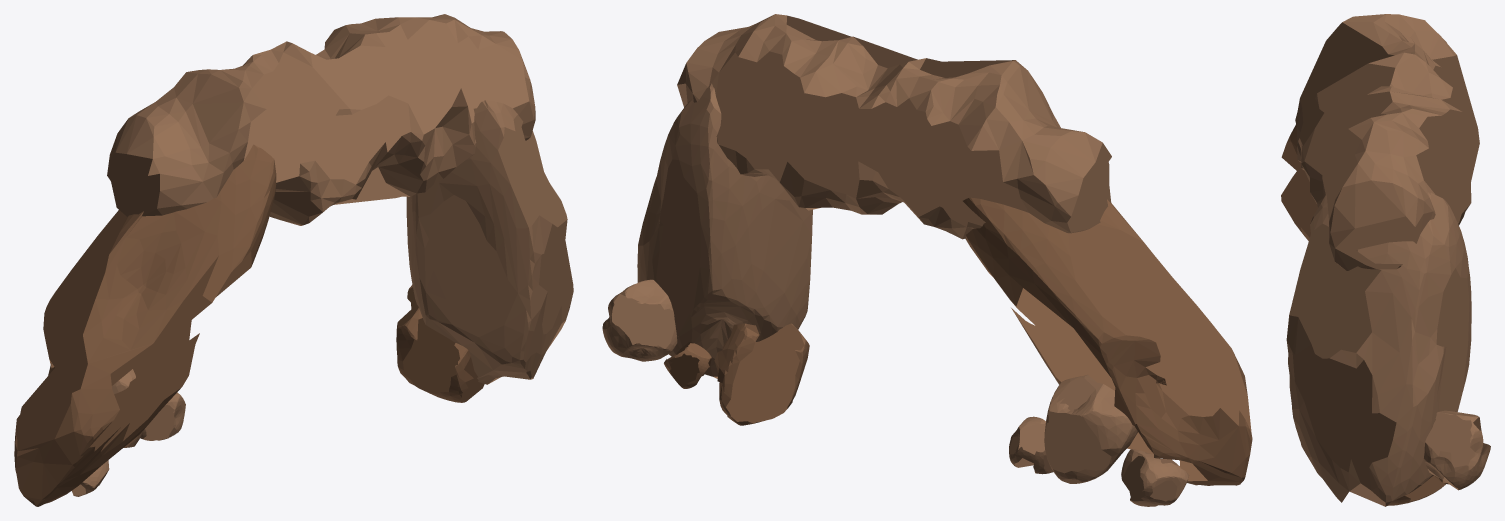
File: STEN .fbx
The picture shows the model from 3 angles, left to right: view 1: azimuth 30°, elevation 25°; view 2: azimuth 150°, elevation 25°; view 3: azimuth 270°, elevation 25°; orthographic projection. The views are drawn at different scales.
Visible parts, largest first — view 1: Cube.002, Cube.004, Cube.003, Cube, Cube.008; view 2: Cube.002, Cube.004, Cube.003, Cube, Cube.006, Cube.001, Cube.005, Cube.008, Cube.007; view 3: Cube.003, Cube.002, Cube.001, Cube.004, Cube.
Part boxes in pixels (x1,y1,x2,y2): Cube.002: (107,14,535,225); Cube.004: (14,144,276,506); Cube.003: (406,100,573,384); Cube: (396,284,484,402); Cube.008: (140,392,185,440); Cube.002: (677,14,1111,239); Cube.004: (963,197,1252,485); Cube.003: (637,83,812,378); Cube: (714,323,809,425); Cube.006: (1044,374,1137,483); Cube.001: (602,279,677,361); Cube.005: (1121,449,1189,506); Cube.008: (1009,416,1053,474); Cube.007: (664,342,711,388); Cube.003: (1286,192,1471,506); Cube.002: (1295,14,1479,270); Cube.001: (1424,410,1490,490); Cube.004: (1281,124,1317,240); Cube: (1387,475,1445,505).
Size of the model in its own units: 2090 by 1355 by 684.
Materials: 6 (6 with a texture image).
